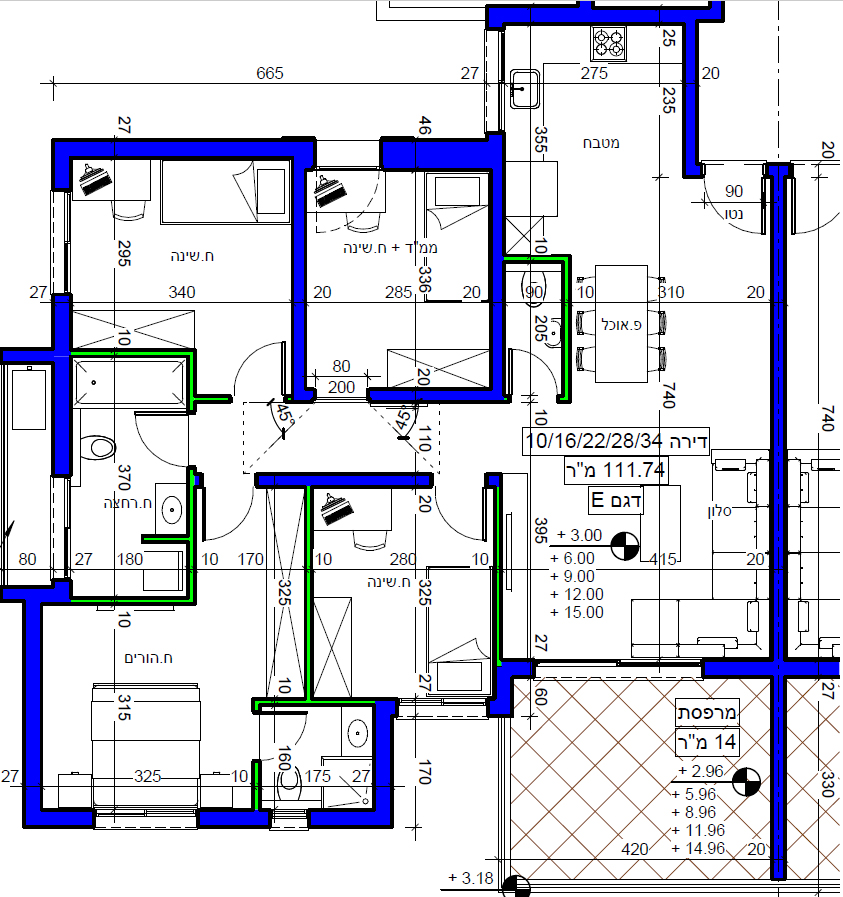door: (130, 408, 183, 469), (232, 331, 287, 385), (431, 497, 489, 544), (199, 497, 256, 544), (508, 346, 553, 392)
wall: (55, 303, 72, 465), (25, 592, 39, 768), (132, 145, 306, 156), (296, 161, 304, 386), (428, 144, 497, 165), (546, 9, 646, 21), (377, 718, 391, 782), (209, 815, 260, 824), (322, 815, 373, 824), (56, 145, 68, 181), (688, 10, 694, 70), (496, 311, 502, 371), (687, 93, 693, 153), (494, 188, 500, 248)
window: (533, 654, 704, 683), (42, 474, 79, 579), (95, 802, 198, 835), (400, 694, 488, 724), (272, 805, 308, 835)
